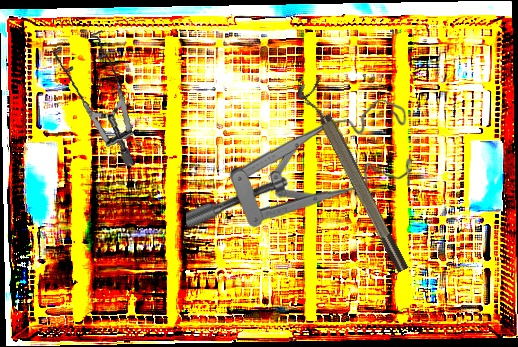Fixation Ring: (294, 76, 412, 279)
Speculum: (185, 97, 414, 232), (33, 22, 154, 169)
